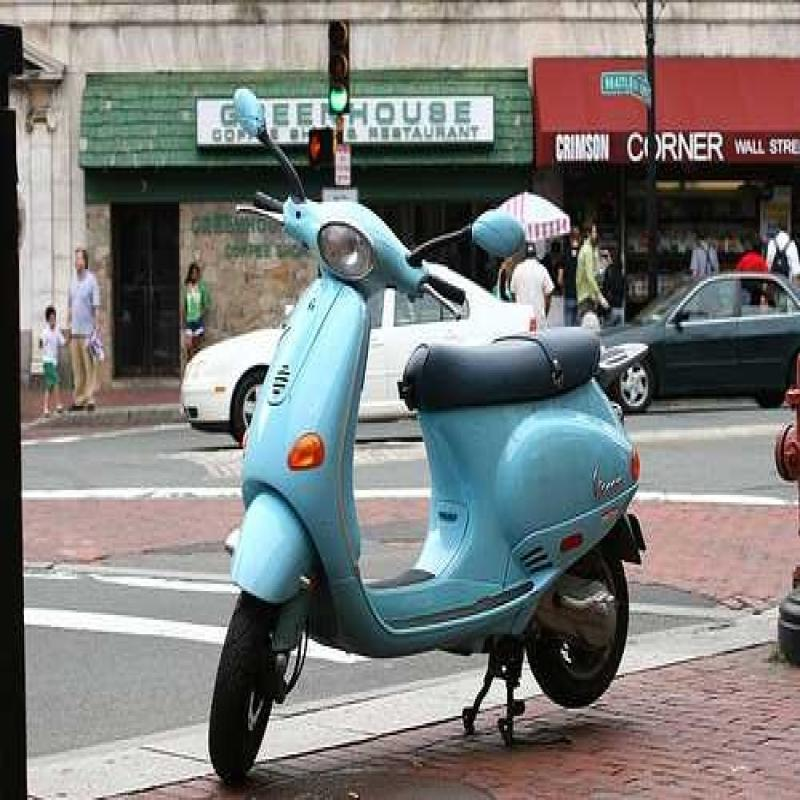bike: (203, 72, 640, 800)
